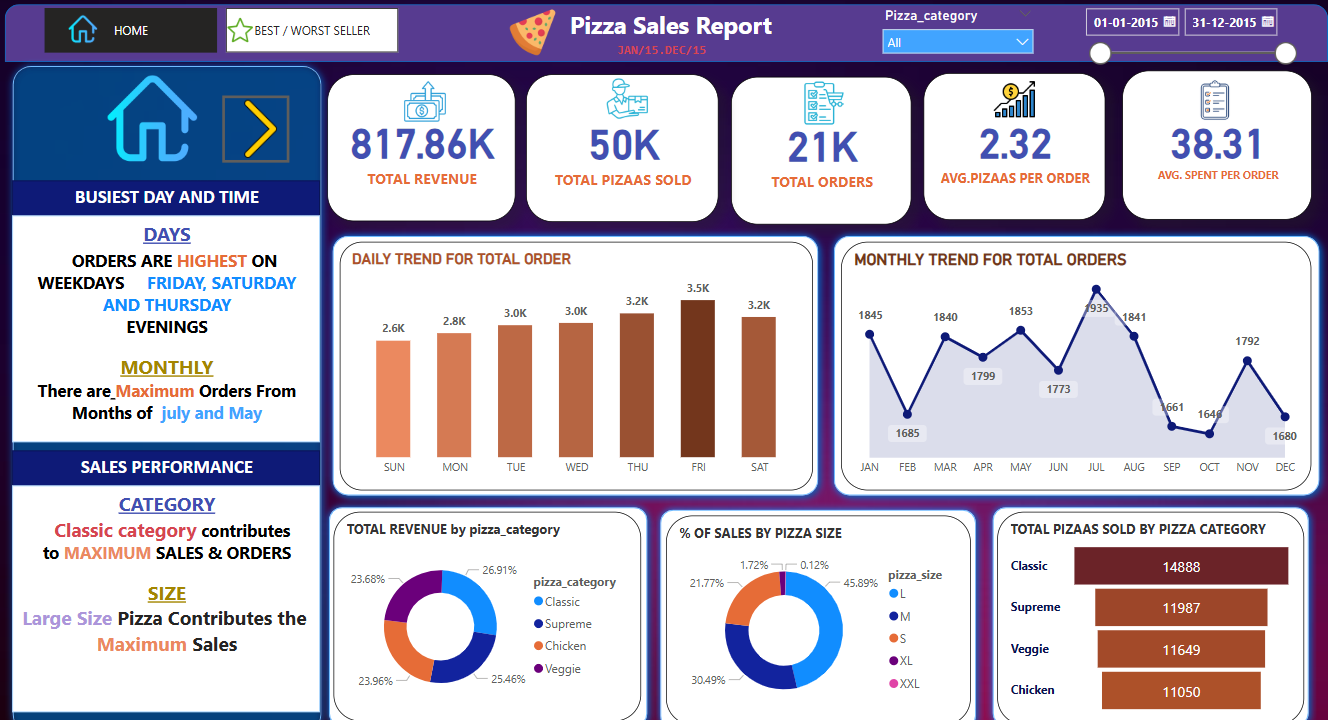

The page's visual inventory and layout, read from the dashboard file:
{"tool":"powerbi","page":{"name":"HOME","canvas":[1500,840],"ordinal":0},"visuals":[{"type":"card","fields":{"Values":["pizza_sales.TOTAL REVENUE"]},"box":[373,85.5,211.7,165.6],"z":0,"group":"g3"},{"type":"shape","box":[1112.8,563.9,373.7,264.6],"z":0},{"type":"card","fields":{"Values":["pizza_sales.AVG. SPENT PER ORDER"]},"box":[1268.4,82.3,213.4,168],"z":1000,"group":"g5"},{"type":"card","fields":{"Values":["pizza_sales.AVG.PIZAAS PER ORDER"]},"box":[1045,84,204.5,165.6],"z":1000,"group":"g2"},{"type":"group","id":"g1","title":"Group 1","box":[827.1,89.2,203.3,166.3],"z":1000},{"type":"group","id":"g2","title":"Group 2","box":[1045,84,205,166.3],"z":2000},{"type":"image","box":[422.2,84.5,121,63.8],"z":2000,"group":"g3"},{"type":"card","fields":{"Values":["pizza_sales.TOTAL ORDERS"]},"box":[827.1,89.2,203.3,166.3],"z":2000,"group":"g1"},{"type":"group","id":"g3","title":"Group 3","box":[373,84.5,211.7,166.3],"z":3000},{"type":"card","fields":{"Values":["pizza_sales.TOTAL PIZAAS SOLD"]},"box":[596.4,86.7,216.7,166.3],"z":3000,"group":"g4"},{"type":"group","id":"g4","title":"Group 4","box":[596.4,85,216.7,168],"z":4000},{"type":"image","box":[1333.5,88.1,79.8,55],"z":4000,"group":"g5"},{"type":"group","id":"g5","title":"Group 5","box":[1268.4,82.3,213.4,168],"z":5000},{"type":"image","box":[675.7,85,69.7,57.9],"z":5000,"group":"g4"},{"type":"image","box":[890,89.2,82.6,59.1],"z":5000,"group":"g1"},{"type":"shape","box":[10,6.7,1490,65],"z":6000},{"type":"textbox","box":[609.8,6.7,300.7,50.4],"z":7000},{"type":"textbox","box":[680.4,43.7,139.4,38.6],"z":8000},{"type":"image","box":[1092.5,84,109.4,59],"z":8002,"group":"g2"},{"type":"image","box":[568.3,6.7,71.7,63.3],"z":9000},{"type":"shape","box":[370.3,258.9,564.5,310.1],"z":10000},{"type":"columnChart","title":"DAILY TREND FOR TOTAL ORDER","fields":{"Y":["pizza_sales.TOTAL ORDERS"],"Category":["pizza_sales.DAY"]},"box":[386.9,274,532.9,280],"z":11000},{"type":"shape","box":[934.8,258.9,564.5,310.1],"z":12000},{"type":"areaChart","title":"MONTHLY TREND FOR TOTAL ORDERS","fields":{"Category":["pizza_sales.months 3 latter"],"Y":["pizza_sales.TOTAL ORDERS"]},"box":[951.4,274,529.9,280],"z":13000},{"type":"shape","box":[365.8,564.5,376.3,264.9],"z":14000},{"type":"shape","box":[739.1,567.5,373.3,264.9],"z":15000},{"type":"shape","box":[9.9,67.8,365.4,768.9],"z":16000},{"type":"donutChart","fields":{"Category":["pizza_sales.pizza_category"],"Y":["pizza_sales.TOTAL REVENUE"]},"box":[379.4,578.1,346.2,236.3],"z":17000},{"type":"donutChart","title":"% OF SALES BY PIZZA SIZE","fields":{"Category":["pizza_sales.pizza_size"],"Y":["pizza_sales.TOTAL REVENUE"]},"box":[754.2,582.6,343.2,236.3],"z":18000},{"type":"funnel","title":"TOTAL PIZAAS SOLD BY PIZZA CATEGORY ","fields":{"Category":["pizza_sales.pizza_category"],"Y":["pizza_sales.TOTAL PIZAAS SOLD"]},"box":[1127.7,578.7,345.6,239.8],"z":19000},{"type":"group","id":"g6","title":"Group 6","box":[18.3,205,346.7,295],"z":20000},{"type":"textbox","box":[18.3,205,346.7,40],"z":20000,"group":"g6"},{"type":"textbox","box":[18.3,510,346.7,40],"z":20000,"group":"g7"},{"type":"textbox","box":[18.3,245,346.7,255],"z":21000,"group":"g6"},{"type":"group","id":"g7","title":"Group 6","box":[18.3,510,346.7,295],"z":21000},{"type":"textbox","box":[18.3,550,346.7,255],"z":21000,"group":"g7"},{"type":"slicer","fields":{"Values":["pizza_sales.pizza_category"]},"box":[988.3,5,190,65],"z":22000},{"type":"slicer","fields":{"Values":["pizza_sales.order_date"]},"box":[1215,1.7,258.3,78.3],"z":23000},{"type":"pageNavigator","box":[55.4,11.8,399.8,50.4],"z":24000},{"type":"image","box":[47,80.6,258.7,110.9],"z":25000},{"type":"image","box":[230.2,109.2,134.4,75.6],"z":26000},{"type":"actionButton","box":[255.4,109.2,75.6,75.6],"z":27000},{"type":"image","box":[50.4,13.4,94.1,42],"z":28000},{"type":"image","box":[253.7,16.8,43.7,38.6],"z":29000}]}

Visuals, with their boxes in screenshot pixels (x1, y1, x2, y2):
card - pizza_sales.TOTAL REVENUE: detection(323, 71, 508, 216)
shape: detection(971, 490, 1298, 719)
card - pizza_sales.AVG. SPENT PER ORDER: detection(1107, 69, 1294, 216)
card - pizza_sales.AVG.PIZAAS PER ORDER: detection(911, 70, 1091, 215)
"Group 1" group: detection(721, 75, 899, 220)
"Group 2" group: detection(911, 70, 1091, 216)
image: detection(366, 71, 472, 126)
card - pizza_sales.TOTAL ORDERS: detection(721, 75, 899, 220)
"Group 3" group: detection(323, 71, 508, 216)
card - pizza_sales.TOTAL PIZAAS SOLD: detection(519, 72, 708, 218)
"Group 4" group: detection(519, 71, 708, 218)
image: detection(1164, 74, 1234, 122)
"Group 5" group: detection(1107, 69, 1294, 216)
image: detection(588, 71, 649, 122)
image: detection(776, 75, 848, 126)
shape: detection(5, 2, 1310, 59)
textbox: detection(530, 2, 794, 47)
textbox: detection(592, 35, 714, 69)
image: detection(953, 70, 1049, 122)
image: detection(494, 2, 557, 58)
shape: detection(321, 223, 815, 495)
"DAILY TREND FOR TOTAL ORDER" columnChart: detection(335, 236, 802, 482)
shape: detection(815, 223, 1309, 495)
"MONTHLY TREND FOR TOTAL ORDERS" areaChart: detection(830, 236, 1293, 482)
shape: detection(317, 491, 646, 719)
shape: detection(644, 493, 971, 719)
shape: detection(5, 56, 325, 719)
donutChart - pizza_sales.pizza_category x pizza_sales.TOTAL REVENUE: detection(329, 503, 632, 710)
"% OF SALES BY PIZZA SIZE" donutChart: detection(657, 507, 957, 714)
"TOTAL PIZAAS SOLD BY PIZZA CATEGORY " funnel: detection(984, 503, 1286, 713)
"Group 6" group: detection(13, 176, 316, 434)
textbox: detection(13, 176, 316, 211)
textbox: detection(13, 443, 316, 478)
textbox: detection(13, 211, 316, 434)
"Group 6" group: detection(13, 443, 316, 701)
textbox: detection(13, 478, 316, 701)
slicer - pizza_sales.pizza_category: detection(862, 1, 1028, 58)
slicer - pizza_sales.order_date: detection(1060, 0, 1286, 67)
pageNavigator: detection(45, 7, 395, 51)
image: detection(38, 67, 264, 164)
image: detection(198, 92, 316, 158)
actionButton: detection(220, 92, 286, 158)
image: detection(41, 8, 123, 45)
image: detection(219, 11, 257, 45)
